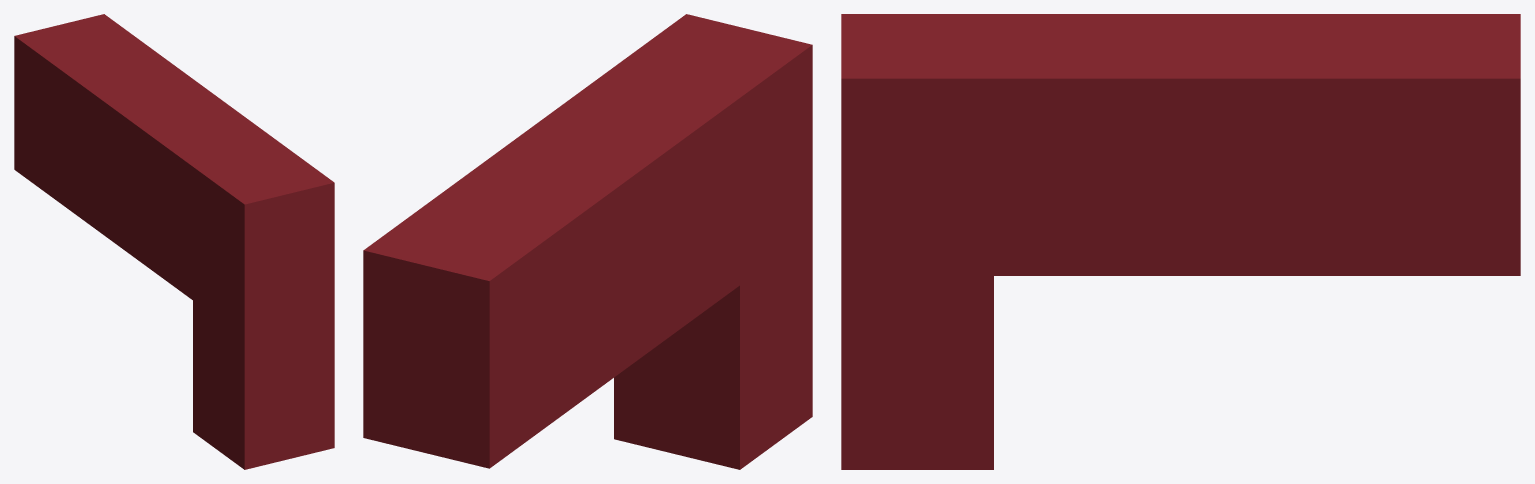
The model's file is testpistol.fbx.
The picture shows the model from 3 angles, left to right: view 1: azimuth 30°, elevation 25°; view 2: azimuth 150°, elevation 25°; view 3: azimuth 270°, elevation 25°; orthographic projection. The views are drawn at different scales.
Visible parts, largest first — view 1: pistoltest; view 2: pistoltest; view 3: pistoltest.
Boxes of the visible parts, left/top/right/bottom form: pistoltest: left=14, top=14, right=334, bottom=469; pistoltest: left=363, top=14, right=812, bottom=469; pistoltest: left=841, top=14, right=1520, bottom=469.
Bounding box in the file's own units: 0.3733 × 1.66 × 1.05.
